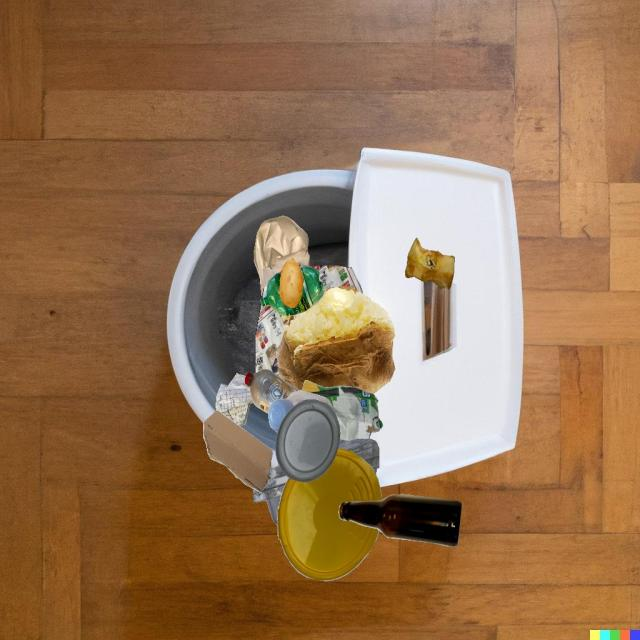biowaste: (277, 286, 395, 394), (405, 237, 455, 289), (279, 258, 303, 308)
cardboard: (203, 410, 276, 493), (302, 380, 383, 442)
glass: (339, 494, 462, 547)
paper: (254, 216, 310, 299), (256, 303, 291, 379), (262, 274, 320, 311), (216, 373, 253, 426), (319, 266, 363, 294)
plastic: (277, 449, 382, 581), (276, 399, 340, 482), (260, 266, 324, 315), (268, 390, 333, 432), (244, 369, 300, 414), (253, 465, 289, 527), (338, 439, 379, 475)
